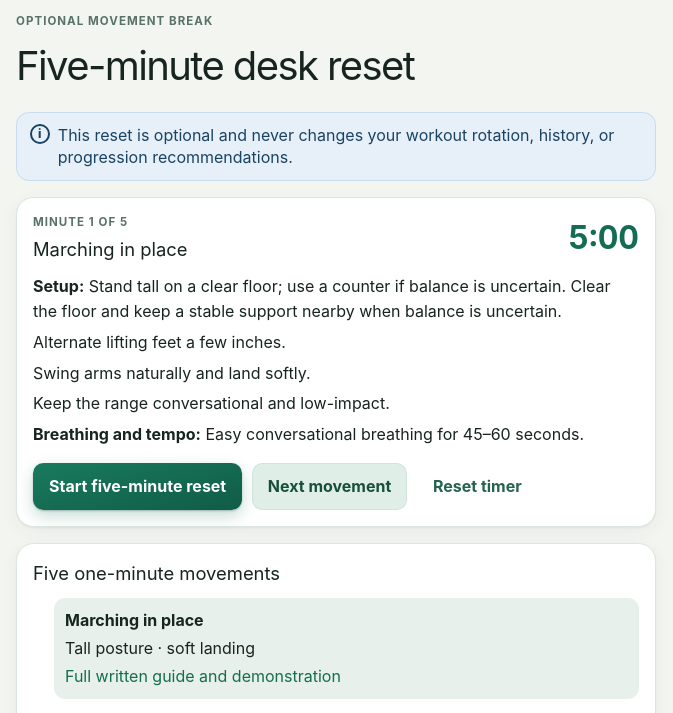
DeskReset › provides five timed movements without implying workout progression
Check: the heading "Five-minute desk reset" is shown, box top-left (16, 41), bottom-right (414, 90)
Check: the text "never changes your workout rotation, history, or progression" is shown, box top-left (58, 125), bottom-right (614, 167)
Click the button "Next movement" at [330, 486], box top-left (252, 463), bottom-right (407, 510)
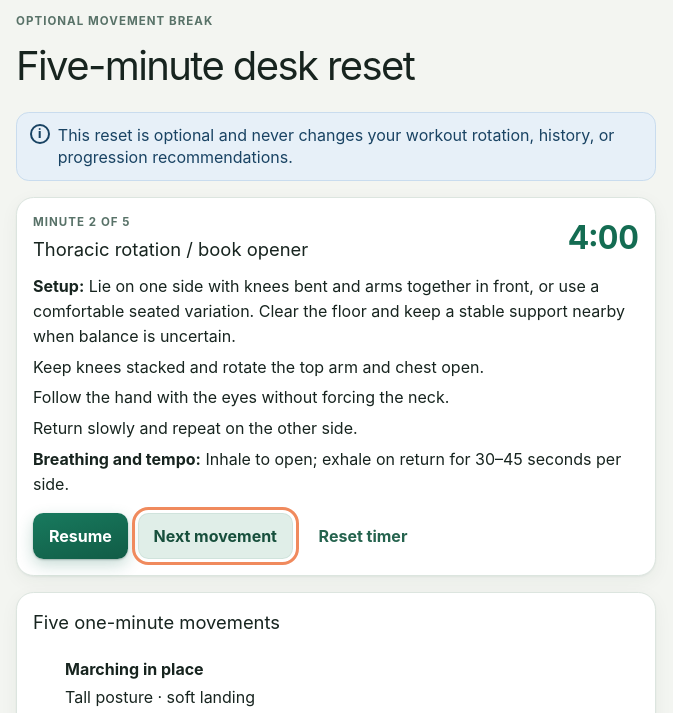
Check: the text with test id "desk-reset-timer" reads "4:00", box top-left (568, 218), bottom-right (639, 257)
Check: the heading "Thoracic rotation / book opener" is shown, box top-left (33, 236), bottom-right (308, 264)
